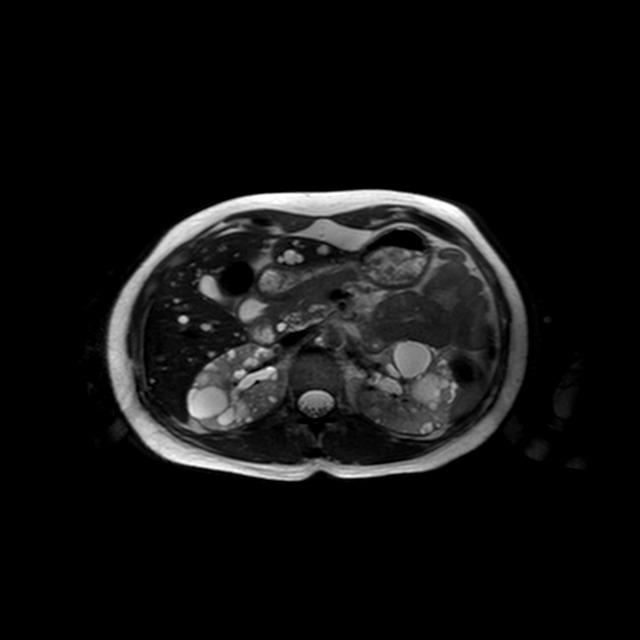sag: (186, 341, 292, 433)
sol: (356, 339, 462, 437)
